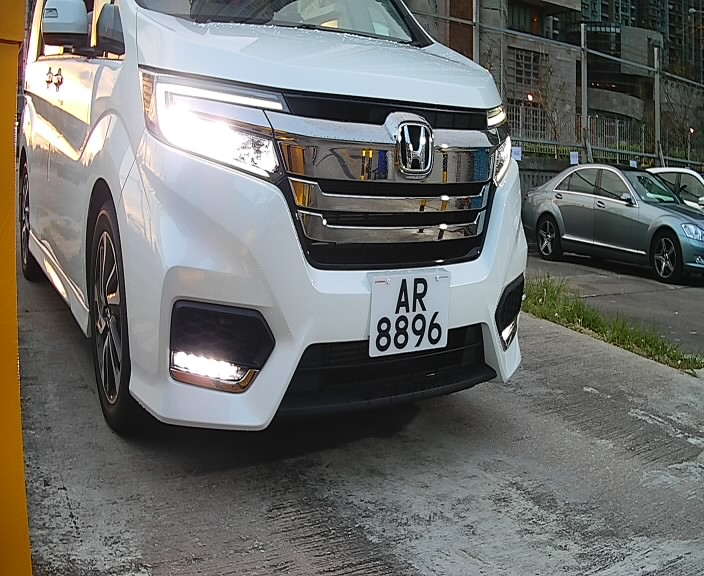License Plate: (363, 269, 454, 369)
